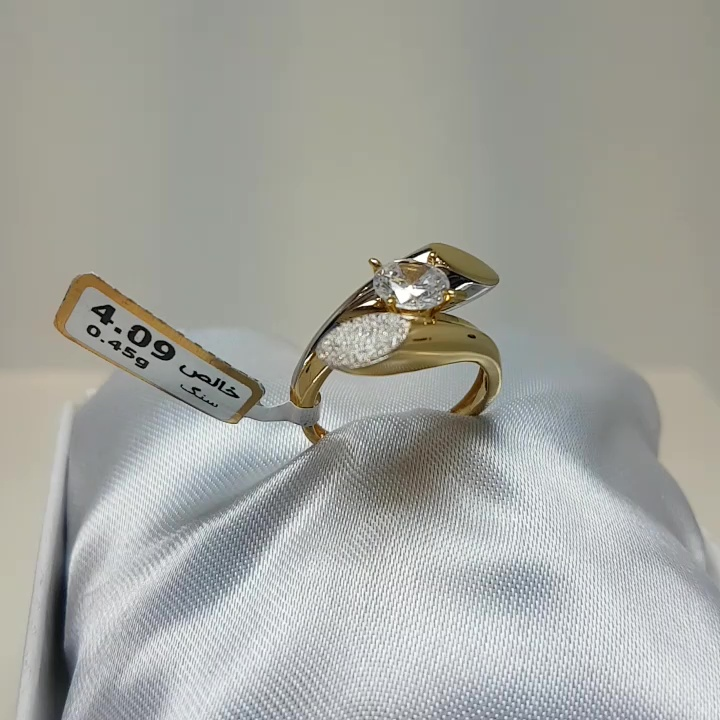Ring 7: (276, 228, 522, 452)
